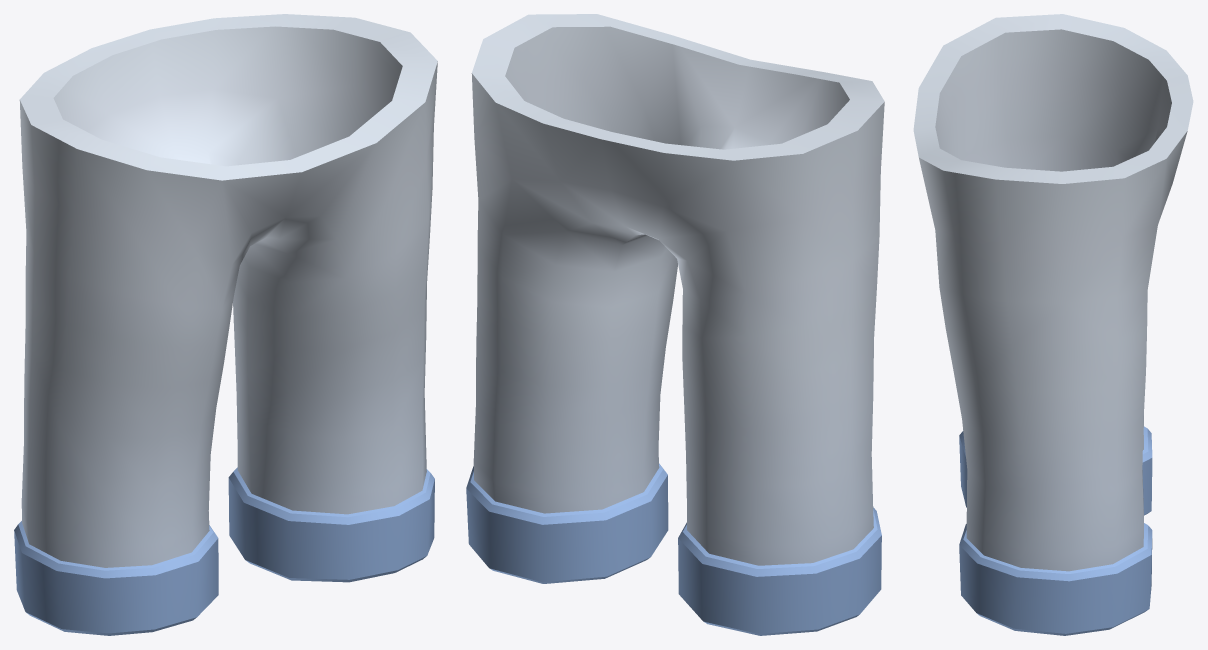
File: Pants_01.glb
3 views of the same model, side by side, from view 1: azimuth 30°, elevation 25°; view 2: azimuth 150°, elevation 25°; view 3: azimuth 270°, elevation 25° (orthographic). The views are drawn at different scales.
Parts seen in each view (by area): view 1: Pants_01; view 2: Pants_01; view 3: Pants_01.
Part boxes in pixels (x1=…): Pants_01: x1=14, y1=14, x2=437, y2=635; Pants_01: x1=466, y1=14, x2=884, y2=635; Pants_01: x1=913, y1=14, x2=1193, y2=635.
Size of the model in its own units: 0.2439 by 0.2941 by 0.1647.
1 material, 1 textured.
